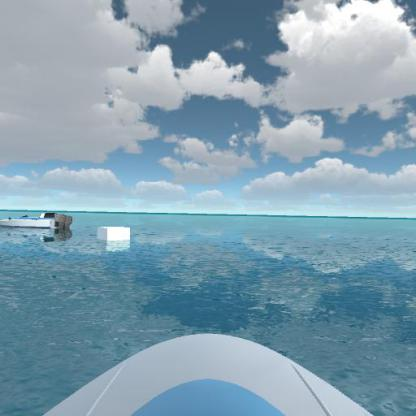usv1: (1, 200, 79, 241)
